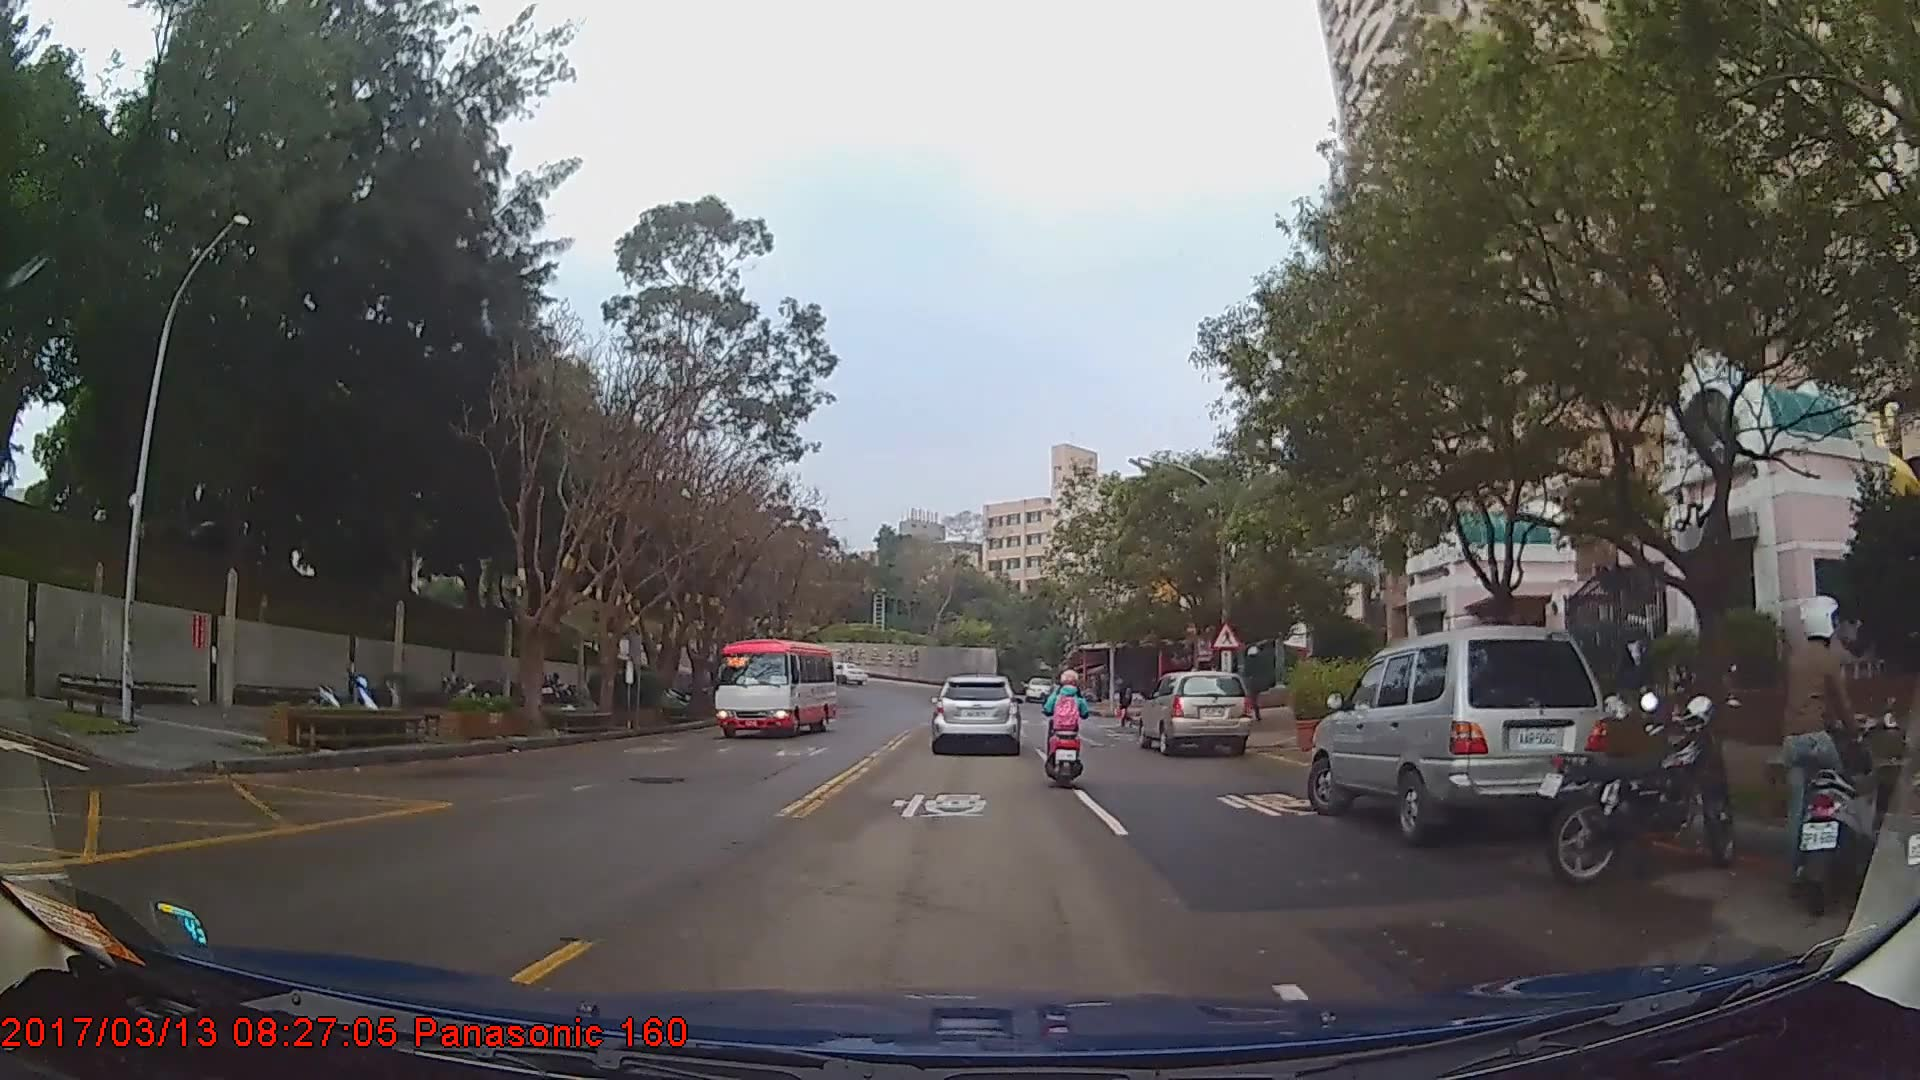pedestrian: (1114, 676, 1138, 734)
rider: (1038, 666, 1093, 796)
vehicle: (1309, 622, 1617, 848), (712, 637, 835, 740), (1139, 672, 1251, 758), (929, 675, 1021, 757), (822, 659, 865, 686)
